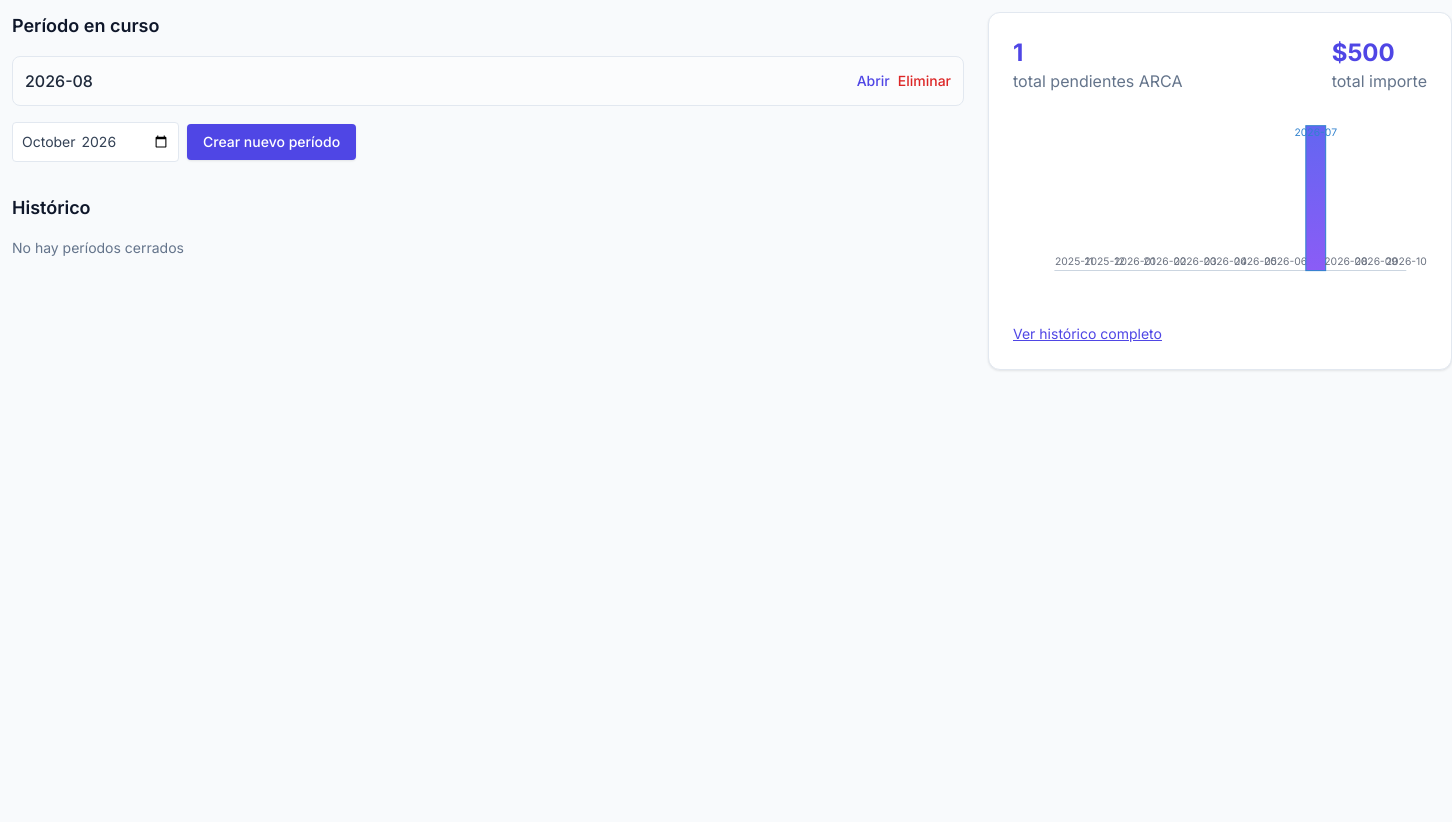
Scenario: DashboardShell › con datos no vacíos, "Ver histórico completo" aparece una sola vez y abre el overlay (sin tarjeta/link duplicados)
What coordinates should you click on to do the following:
click the button "Ver histórico completo"
I would click on:
 (1088, 334)
Its box is 1013,324 -> 1162,344.
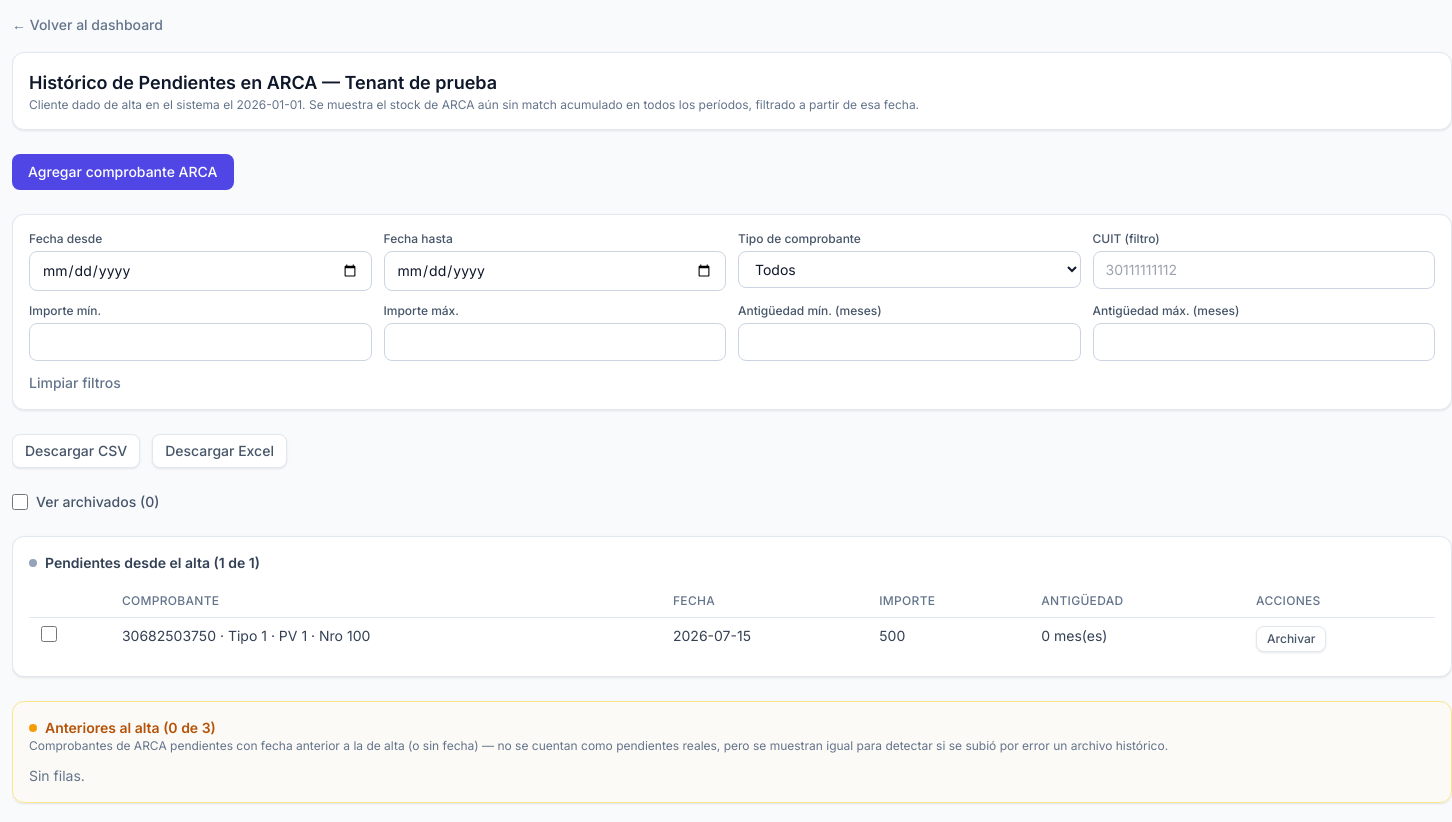
Expected: the heading "Histórico de Pendientes en ARCA — Tenant de prueba" is shown, 29,72 -> 497,93
